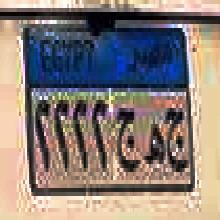2: (91, 95, 109, 176), (52, 96, 70, 177), (72, 96, 90, 170), (33, 96, 51, 169)
haa: (143, 120, 166, 174)
jeem: (115, 105, 140, 182), (165, 105, 189, 176)
